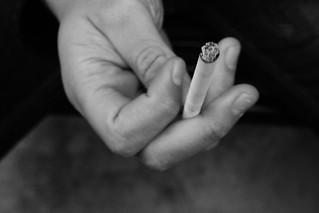cigarette: (181, 39, 222, 120)
